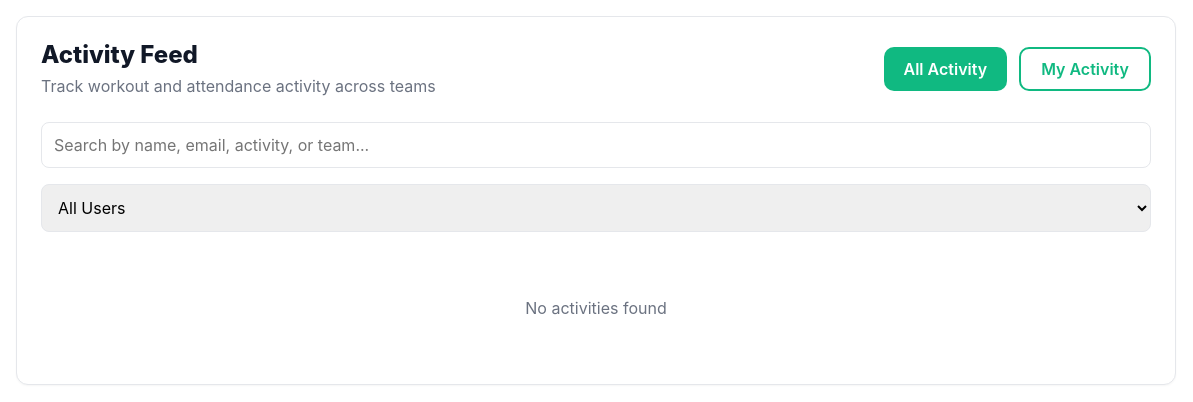
Scenario: <Activity /> › shows an empty-state message when filters eliminate all items
Expected: the heading "Activity Feed" is shown, [41,40,198,69]
Step 1. Type "no-match-whatsoever" into the field with placeholder "Search by name, email, activity, or team..." → (596, 145), box [41,122,1151,168]
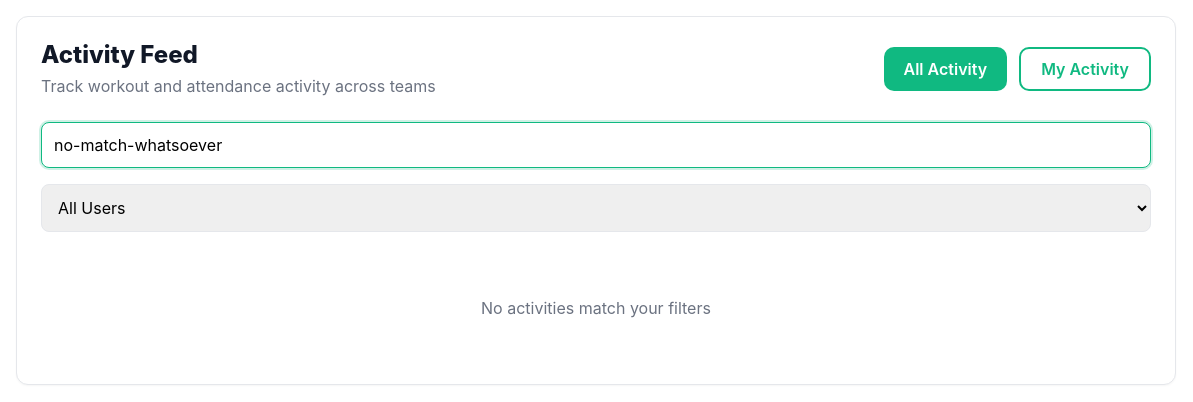
Result: the text "No activities match your filters" is shown at [481,298,711,318]
